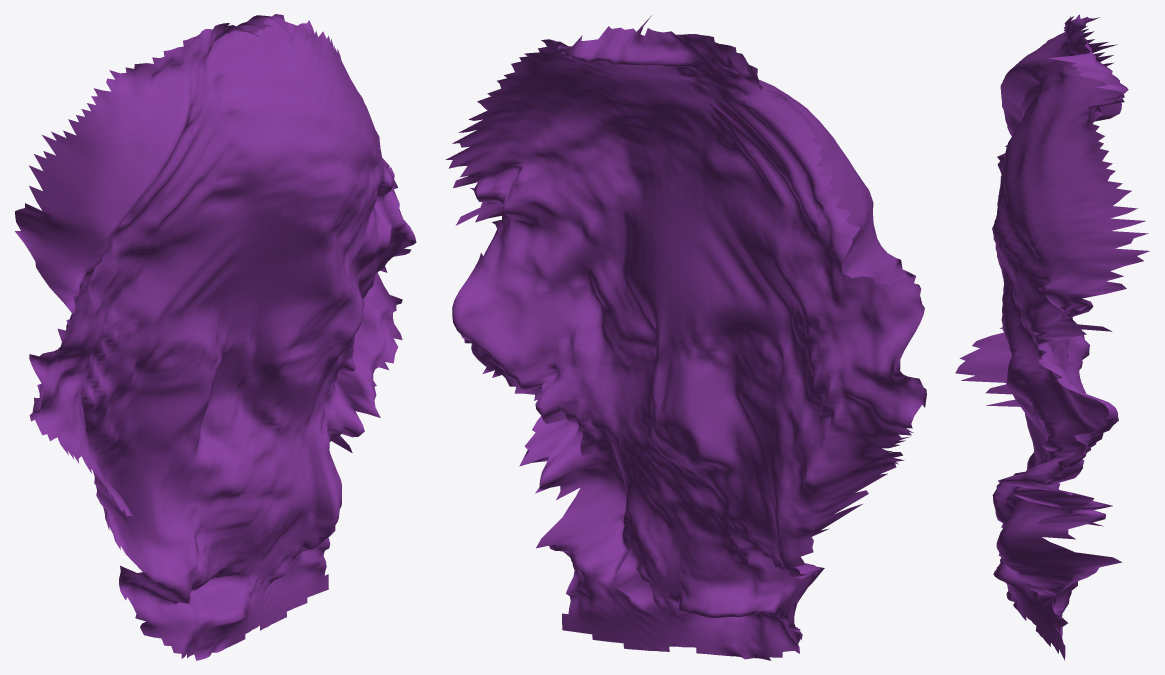
File: igea_SFL.glb
The picture shows the model from 3 angles, left to right: view 1: azimuth 30°, elevation 25°; view 2: azimuth 150°, elevation 25°; view 3: azimuth 270°, elevation 25°; orthographic projection. The views are drawn at different scales.
Parts seen in each view (by area): view 1: main-sfl-igea-60kf; view 2: main-sfl-igea-60kf; view 3: main-sfl-igea-60kf.
Part boxes in pixels (x1,y1,x2,y2): main-sfl-igea-60kf: (15,14,416,660); main-sfl-igea-60kf: (445,15,926,660); main-sfl-igea-60kf: (955,14,1149,660).
Size of the model in its own units: 0.8 by 1.15 by 0.3499.
